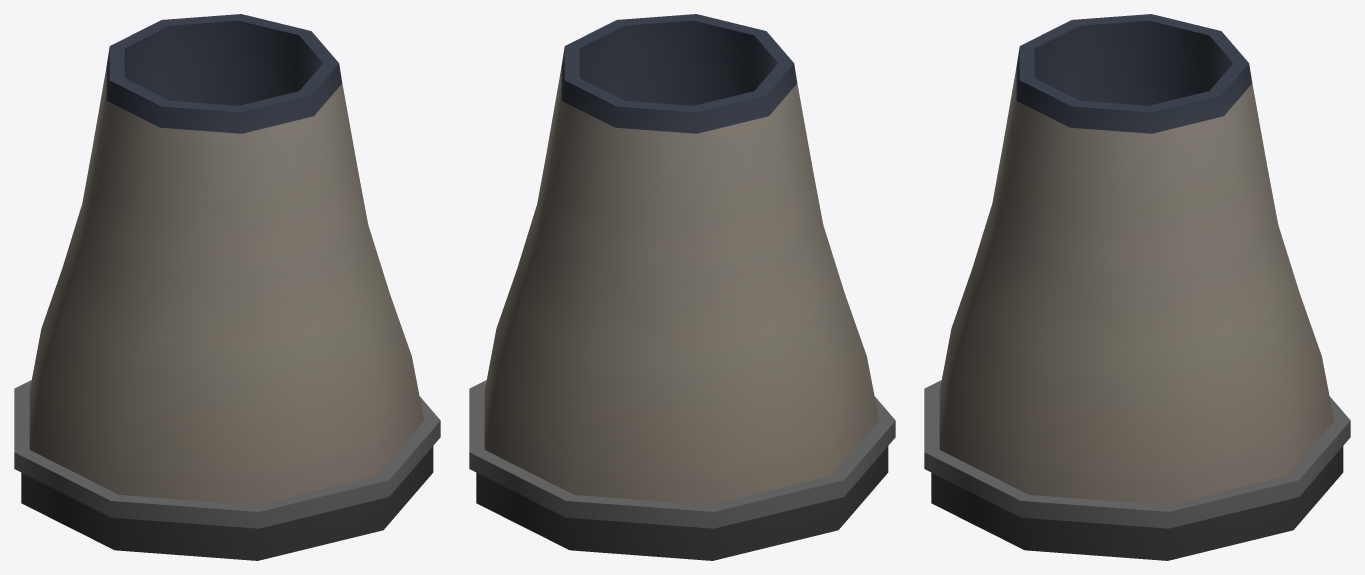
Rendered from ChimneyPowerPlant_1_C.fbx.
The picture shows the model from 3 angles, left to right: view 1: azimuth 30°, elevation 25°; view 2: azimuth 150°, elevation 25°; view 3: azimuth 270°, elevation 25°; orthographic projection.
Parts seen in each view (by area): view 1: ChimneyPowerPlant_1_C; view 2: ChimneyPowerPlant_1_C; view 3: ChimneyPowerPlant_1_C.
Boxes of the visible parts, x1,y1,x2,y2 form: ChimneyPowerPlant_1_C: (14,14,440,560); ChimneyPowerPlant_1_C: (469,14,895,560); ChimneyPowerPlant_1_C: (924,14,1350,560).
Bounding box in the file's own units: 1836 × 1916 × 1808.
